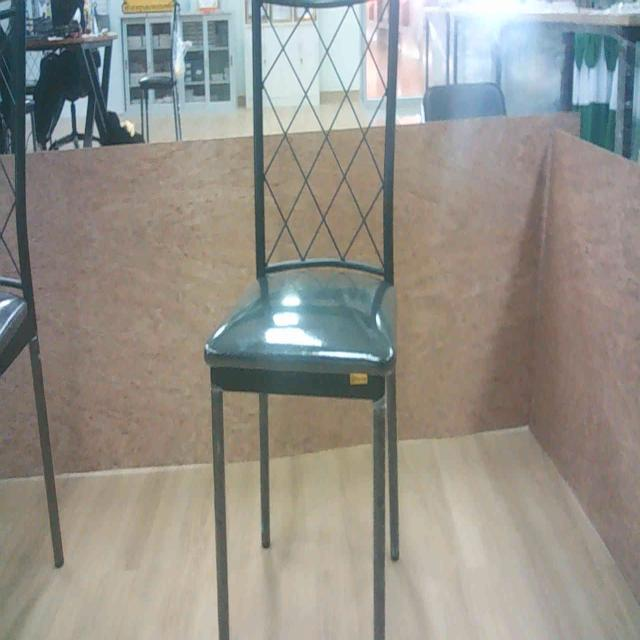emtpy: (220, 0, 395, 640)
